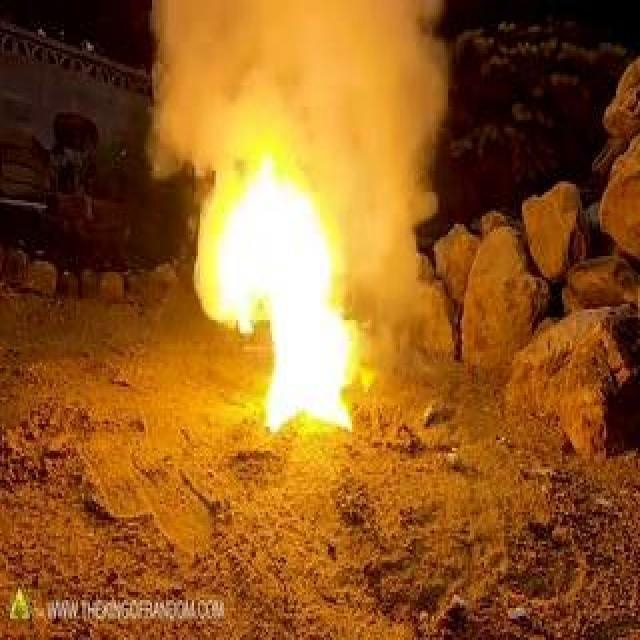Fire: (213, 120, 361, 440)
Smoke: (149, 2, 442, 178), (362, 175, 436, 352)
